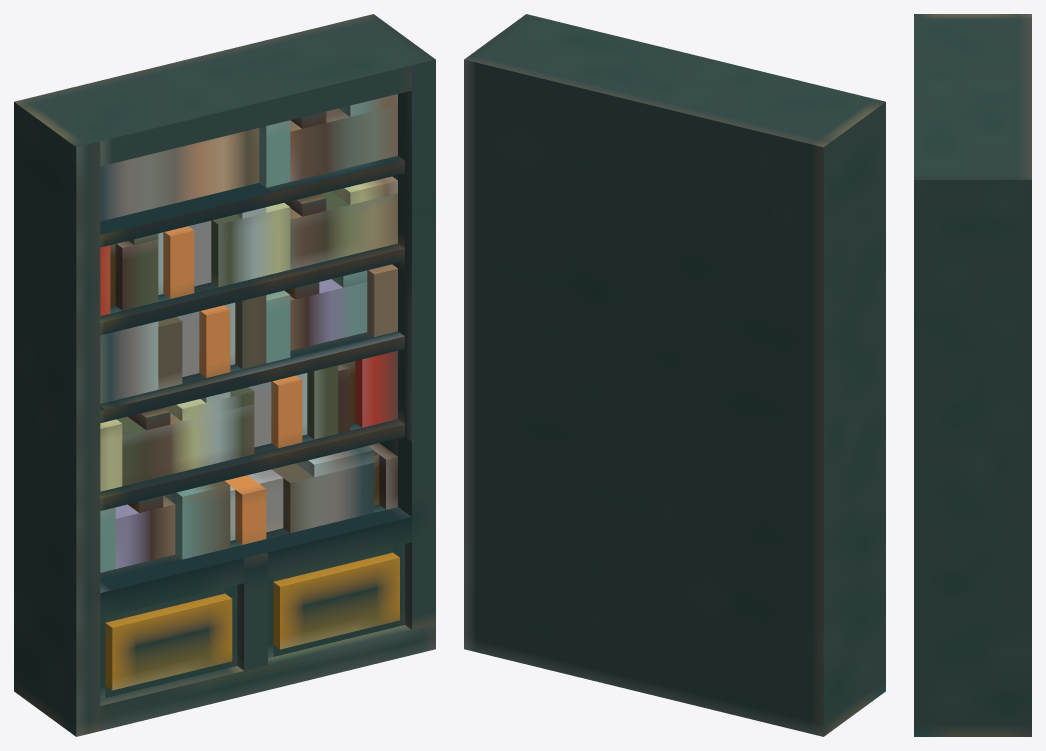
The model's file is BookshelfBlue_02.fbx.
3 renders of one model, left to right at view 1: azimuth 30°, elevation 25°; view 2: azimuth 150°, elevation 25°; view 3: azimuth 270°, elevation 25°, orthographic. The views are drawn at different scales.
Visible parts, largest first — view 1: BookshelfBlue_02; view 2: BookshelfBlue_02; view 3: BookshelfBlue_02.
Part boxes in pixels (x1,y1,x2,y2): BookshelfBlue_02: (14,14,435,736); BookshelfBlue_02: (464,14,885,736); BookshelfBlue_02: (914,14,1031,736).
Bounding box in the file's own units: 150 × 45 × 235.
1 material, 1 textured.
